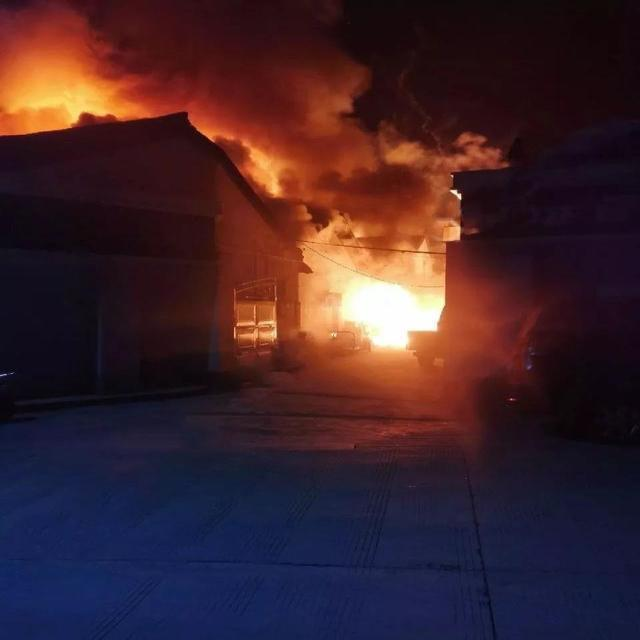Fire: (333, 268, 443, 352)
Smoke: (0, 2, 358, 129), (255, 132, 459, 250)
